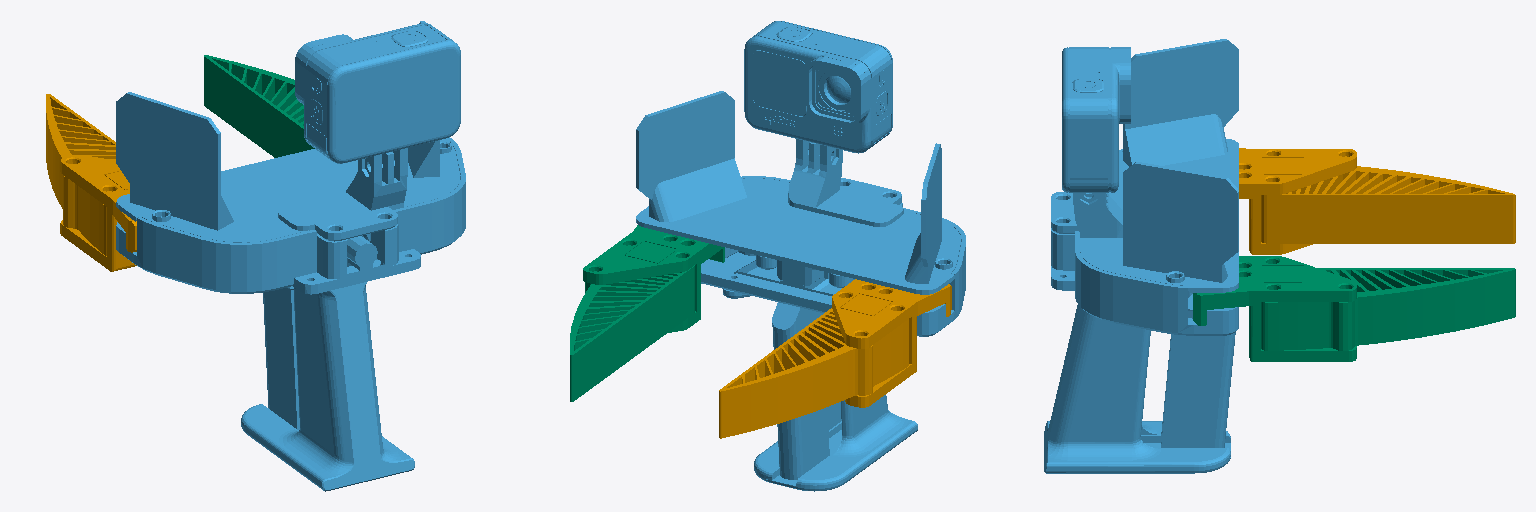
The robot description file, URDF, robot "converted_robot":
<?xml version="1.0" ?>
<robot name="converted_robot">
   <!--generated with mjcf_urdf_simple_converter (https://github.com/Yasu31/mjcf_urdf_simple_converter)-->
   <link name="world">
      <inertial>
         <origin xyz="0.0 0.0 0.0" rpy="0.0 0.0 0.0"/>
         <mass value="0.0"/>
         <inertia ixx="0.0" iyy="0.0" izz="0.0" ixy="0" ixz="0" iyz="0"/>
      </inertial>
   </link>
   <link name="body_1">
      <inertial>
         <origin xyz="0.0015967979364567948 0.003504282015459275 0.02287166630407777" rpy="2.172631339574884 -1.5218897734899373 -0.4655564621157525"/>
         <mass value="1.560126250423701"/>
         <inertia ixx="0.005530705291902967" iyy="0.0040921097044483426" izz="0.0027242058202118437" ixy="0" ixz="0" iyz="0"/>
      </inertial>
      <visual name="base_link">
         <origin xyz="0.00029036961018778486 0.009971136732595986 0.0249724306687446" rpy="0.11244518485826349 -1.473184401860941 1.4829997783243696"/>
         <geometry>
            <mesh filename="meshes/converted_base_link_ffffffff.obj"/>
         </geometry>
      </visual>
      <collision>
         <origin xyz="0.00029036961018778486 0.009971136732595986 0.0249724306687446" rpy="0.11244518485826349 -1.473184401860941 1.4829997783243696"/>
         <geometry>
            <mesh filename="meshes/converted_base_link_ffffffff.obj"/>
         </geometry>  
      </collision>
      <visual name="base_link">
         <origin xyz="0.00029036961018778486 0.009971136732595986 0.0249724306687446" rpy="0.11244518485826349 -1.473184401860941 1.4829997783243696"/>
         <geometry>
            <mesh filename="meshes/converted_base_link_808080ff.obj"/>
         </geometry>
      </visual>
      <visual name="gopro">
         <origin xyz="0.018296779135748113 -0.07888114745584028 -0.003825781899764737" rpy="0.8735124240821344 1.478332652851687 -2.1979067150698626"/>
         <geometry>
            <mesh filename="meshes/converted_gopro_262626ff.obj"/>
         </geometry>
      </visual>
      <collision>
         <origin xyz="0.018296779135748113 -0.07888114745584028 -0.003825781899764737" rpy="0.8735124240821344 1.478332652851687 -2.1979067150698626"/>
         <geometry>
            <mesh filename="meshes/converted_gopro_262626ff.obj"/>
         </geometry>
      </collision>
      <visual name="gopro">
         <origin xyz="0.018296779135748113 -0.07888114745584028 -0.003825781899764737" rpy="0.8735124240821344 1.478332652851687 -2.1979067150698626"/>
         <geometry>
            <mesh filename="meshes/converted_gopro_808080ff.obj"/>
         </geometry>
      </visual>
   </link>
   <link name="gripper_joint_x_jointbody">
      <inertial>
         <origin xyz="0.0 0.0 0.0" rpy="0.0 0.0 0.0"/>
         <mass value="0.001"/>
         <inertia ixx="1e-09" iyy="1e-09" izz="1e-09" ixy="0" ixz="0" iyz="0"/>
      </inertial>
   </link>
   <joint type="prismatic" name="gripper_joint_x">
      <parent link="world"/>
      <child link="gripper_joint_x_jointbody"/>
      <origin xyz="0.0 0.0 0.11" rpy="-1.5707963267948957 0.0 0.0"/>
      <axis xyz="1.0 0.0 0.0"/>
      <limit lower="-1.2" upper="1.2" effort="100" velocity="100"/>
   </joint>
   <link name="gripper_joint_y_jointbody">
      <inertial>
         <origin xyz="0.0 0.0 0.0" rpy="0.0 0.0 0.0"/>
         <mass value="0.001"/>
         <inertia ixx="1e-09" iyy="1e-09" izz="1e-09" ixy="0" ixz="0" iyz="0"/>
      </inertial>
   </link>
   <joint type="prismatic" name="gripper_joint_y">
      <parent link="gripper_joint_x_jointbody"/>
      <child link="gripper_joint_y_jointbody"/>
      <origin xyz="0.0 0.0 0.0" rpy="0.0 0.0 0.0"/>
      <axis xyz="0.0 0.0 1.0"/>
      <limit lower="-1.2" upper="1.2" effort="100" velocity="100"/>
   </joint>
   <link name="gripper_joint_z_jointbody">
      <inertial>
         <origin xyz="0.0 0.0 0.0" rpy="0.0 0.0 0.0"/>
         <mass value="0.001"/>
         <inertia ixx="1e-09" iyy="1e-09" izz="1e-09" ixy="0" ixz="0" iyz="0"/>
      </inertial>
   </link>
   <joint type="prismatic" name="gripper_joint_z">
      <parent link="gripper_joint_y_jointbody"/>
      <child link="gripper_joint_z_jointbody"/>
      <origin xyz="0.0 0.0 0.0" rpy="0.0 0.0 0.0"/>
      <axis xyz="0.0 -1.0 0.0"/>
      <limit lower="-1.2" upper="1.2" effort="100" velocity="100"/>
   </joint>
   <link name="gripper_joint_rx_jointbody">
      <inertial>
         <origin xyz="0.0 0.0 0.0" rpy="0.0 0.0 0.0"/>
         <mass value="0.001"/>
         <inertia ixx="1e-09" iyy="1e-09" izz="1e-09" ixy="0" ixz="0" iyz="0"/>
      </inertial>
   </link>
   <joint type="revolute" name="gripper_joint_rx">
      <parent link="gripper_joint_z_jointbody"/>
      <child link="gripper_joint_rx_jointbody"/>
      <origin xyz="0.0 0.0 0.0" rpy="0.0 0.0 0.0"/>
      <axis xyz="1.0 0.0 0.0"/>
      <limit lower="-31.415" upper="31.415" effort="100" velocity="100"/>
   </joint>
   <link name="gripper_joint_ry_jointbody">
      <inertial>
         <origin xyz="0.0 0.0 0.0" rpy="0.0 0.0 0.0"/>
         <mass value="0.001"/>
         <inertia ixx="1e-09" iyy="1e-09" izz="1e-09" ixy="0" ixz="0" iyz="0"/>
      </inertial>
   </link>
   <joint type="revolute" name="gripper_joint_ry">
      <parent link="gripper_joint_rx_jointbody"/>
      <child link="gripper_joint_ry_jointbody"/>
      <origin xyz="0.0 0.0 0.0" rpy="0.0 0.0 0.0"/>
      <axis xyz="0.0 0.0 1.0"/>
      <limit lower="-31.415" upper="31.415" effort="100" velocity="100"/>
   </joint>
   <link name="gripper_joint_rz_jointbody">
      <inertial>
         <origin xyz="0.0 0.0 0.0" rpy="0.0 0.0 0.0"/>
         <mass value="0.001"/>
         <inertia ixx="1e-09" iyy="1e-09" izz="1e-09" ixy="0" ixz="0" iyz="0"/>
      </inertial>
   </link>
   <joint type="revolute" name="gripper_joint_rz">
      <parent link="gripper_joint_ry_jointbody"/>
      <child link="gripper_joint_rz_jointbody"/>
      <origin xyz="0.0 0.0 0.0" rpy="0.0 0.0 0.0"/>
      <axis xyz="0.0 -1.0 0.0"/>
      <limit lower="-31.415" upper="31.415" effort="100" velocity="100"/>
   </joint>
   <joint type="fixed" name="gripper_joint_rz_offset">
      <parent link="gripper_joint_rz_jointbody"/>
      <child link="body_1"/>
      <origin xyz="-0.0 -0.0 -0.0" rpy="0.0 0.0 0.0"/>
   </joint>
   <link name="left_finger_holder">
      <inertial>
         <origin xyz="-0.0613355 0.104073 -0.0013157" rpy="-1.1769009428563757 -1.3849810823943283 2.651450192417948"/>
         <mass value="0.080081"/>
         <inertia ixx="0.000104597" iyy="0.000102992" izz="1.90532e-05" ixy="0" ixz="0" iyz="0"/>
      </inertial>
      <visual name="left_finger_holder">
         <origin xyz="-0.0644068409846553 0.08112333887204844 -3.970886106907814e-05" rpy="1.2330756448677436 -0.3780366056799709 0.2839660278519583"/>
         <geometry>
            <mesh filename="meshes/converted_left_finger_holder_ffffffff.obj"/>
         </geometry>
      </visual>
      <collision>
         <origin xyz="-0.0644068409846553 0.08112333887204844 -3.970886106907814e-05" rpy="1.2330756448677436 -0.3780366056799709 0.2839660278519583"/>
         <geometry>
            <mesh filename="meshes/converted_left_finger_holder_ffffffff.obj"/>
         </geometry>
      </collision>
      <visual name="left_finger_holder">
         <origin xyz="-0.0644068409846553 0.08112333887204844 -3.970886106907814e-05" rpy="1.2330756448677436 -0.3780366056799709 0.2839660278519583"/>
         <geometry>
            <mesh filename="meshes/converted_left_finger_holder_808080ff.obj"/>
         </geometry>
      </visual>
      <visual name="left_finger">
         <origin xyz="-0.056436158389798194 0.12444200711018616 -0.002999999561905853" rpy="1.7143034299591546 1.5707963267948966 0.0"/>
         <geometry>
            <mesh filename="meshes/converted_left_finger_ebad3dff.obj"/>
         </geometry>
      </visual>
      <collision>
         <origin xyz="-0.056436158389798194 0.12444200711018616 -0.002999999561905853" rpy="1.7143034299591546 1.5707963267948966 0.0"/>
         <geometry>
            <mesh filename="meshes/converted_left_finger_ebad3dff.obj"/>
         </geometry>
      </collision>
      <visual name="left_finger">
         <origin xyz="-0.056436158389798194 0.12444200711018616 -0.002999999561905853" rpy="1.7143034299591546 1.5707963267948966 0.0"/>
         <geometry>
            <mesh filename="meshes/converted_left_finger_808080ff.obj"/>
         </geometry>
      </visual>
   </link>
   <link name="left_finger_joint_jointbody">
      <inertial>
         <origin xyz="0.0 0.0 0.0" rpy="0.0 0.0 0.0"/>
         <mass value="0.001"/>
         <inertia ixx="1e-09" iyy="1e-09" izz="1e-09" ixy="0" ixz="0" iyz="0"/>
      </inertial>
   </link>
   <joint type="prismatic" name="left_finger_joint">
      <parent link="body_1"/>
      <child link="left_finger_joint_jointbody"/>
      <origin xyz="0.0 0.0 0.0" rpy="1.5707963267948963 0.0 0.0"/>
      <axis xyz="1.0 0.0 0.0"/>
      <limit lower="0.0" upper="0.0417" effort="100" velocity="100"/>
   </joint>
   <joint type="fixed" name="left_finger_joint_offset">
      <parent link="left_finger_joint_jointbody"/>
      <child link="left_finger_holder"/>
      <origin xyz="-0.0 -0.0 -0.0" rpy="0.0 0.0 0.0"/>
   </joint>
   <link name="right_finger_holder">
      <inertial>
         <origin xyz="0.0613353 0.104073 -0.00131574" rpy="1.176946497676931 -1.384964732758037 0.49010502833437664"/>
         <mass value="0.080081"/>
         <inertia ixx="0.000104597" iyy="0.000102992" izz="1.90532e-05" ixy="0" ixz="0" iyz="0"/>
      </inertial>
      <visual name="right_finger_holder">
         <origin xyz="0.06440684101505119 0.08112333885440705 -3.970884378333247e-05" rpy="1.2330756411339179 0.3780366247775515 -0.2839660331644219"/>
         <geometry>
            <mesh filename="meshes/converted_right_finger_holder_ffffffff.obj"/>
         </geometry>
      </visual>
      <collision>
         <origin xyz="0.06440684101505119 0.08112333885440705 -3.970884378333247e-05" rpy="1.2330756411339179 0.3780366247775515 -0.2839660331644219"/>
         <geometry>
            <mesh filename="meshes/converted_right_finger_holder_ffffffff.obj"/>
         </geometry>
      </collision>
      <visual name="right_finger_holder">
         <origin xyz="0.06440684101505119 0.08112333885440705 -3.970884378333247e-05" rpy="1.2330756411339179 0.3780366247775515 -0.2839660331644219"/>
         <geometry>
            <mesh filename="meshes/converted_right_finger_holder_808080ff.obj"/>
         </geometry>
      </visual>
      <visual name="right_finger">
         <origin xyz="0.056436158389798194 0.12444200711018617 -0.0030000004380941452" rpy="1.7143034299591549 -1.5707963267948966 0.0"/>
         <geometry>
            <mesh filename="meshes/converted_right_finger_ebad3dff.obj"/>
         </geometry>
      </visual>
      <collision>
         <origin xyz="0.056436158389798194 0.12444200711018617 -0.0030000004380941452" rpy="1.7143034299591549 -1.5707963267948966 0.0"/>
         <geometry>
            <mesh filename="meshes/converted_right_finger_ebad3dff.obj"/>
         </geometry>
      </collision>
      <visual name="right_finger">
         <origin xyz="0.056436158389798194 0.12444200711018617 -0.0030000004380941452" rpy="1.7143034299591549 -1.5707963267948966 0.0"/>
         <geometry>
            <mesh filename="meshes/converted_right_finger_808080ff.obj"/>
         </geometry>
      </visual>
   </link>
   <link name="right_finger_joint_jointbody">
      <inertial>
         <origin xyz="0.0 0.0 0.0" rpy="0.0 0.0 0.0"/>
         <mass value="0.001"/>
         <inertia ixx="1e-09" iyy="1e-09" izz="1e-09" ixy="0" ixz="0" iyz="0"/>
      </inertial>
   </link>
   <joint type="prismatic" name="right_finger_joint">
      <parent link="body_1"/>
      <child link="right_finger_joint_jointbody"/>
      <origin xyz="0.0 0.0 0.0" rpy="1.5707963267948963 0.0 0.0"/>
      <axis xyz="-1.0 0.0 0.0"/>
      <limit lower="0.0" upper="0.0417" effort="100" velocity="100"/>
      <mimic joint="left_finger_joint" multiplier="1.0" offset="0.0"/>
   </joint>
   <joint type="fixed" name="right_finger_joint_offset">
      <parent link="right_finger_joint_jointbody"/>
      <child link="right_finger_holder"/>
      <origin xyz="-0.0 -0.0 -0.0" rpy="0.0 0.0 0.0"/>
   </joint>
</robot>

--- What the picture shows (computed from the rendered views, not written in the file) ---
The picture shows the robot from 3 angles, left to right: view 1: azimuth 30°, elevation 25°; view 2: azimuth 150°, elevation 25°; view 3: azimuth 270°, elevation 25°; orthographic projection.
Model converted_robot with 12 links and 11 joints (3 revolute, 5 prismatic, 3 fixed), rooted at world, posed all joints at 0.
Links seen in each view (by area): view 1: body_1, left_finger_holder, right_finger_holder; view 2: body_1, left_finger_holder, right_finger_holder; view 3: body_1, right_finger_holder, left_finger_holder.
Link boxes in pixels (x1,y1,x2,y2): body_1: (116,21,465,491); left_finger_holder: (46,94,136,271); right_finger_holder: (204,55,314,157); body_1: (636,21,965,491); left_finger_holder: (719,279,951,438); right_finger_holder: (570,225,724,401); body_1: (1044,39,1238,473); right_finger_holder: (1193,256,1515,361); left_finger_holder: (1239,148,1515,254).
Bounding box of the posed robot: 0.1736 × 0.2284 × 0.2129 m (x, y, z).
Meshes: 12 distinct files referenced, 12 mesh visuals loaded (12 OBJ).
